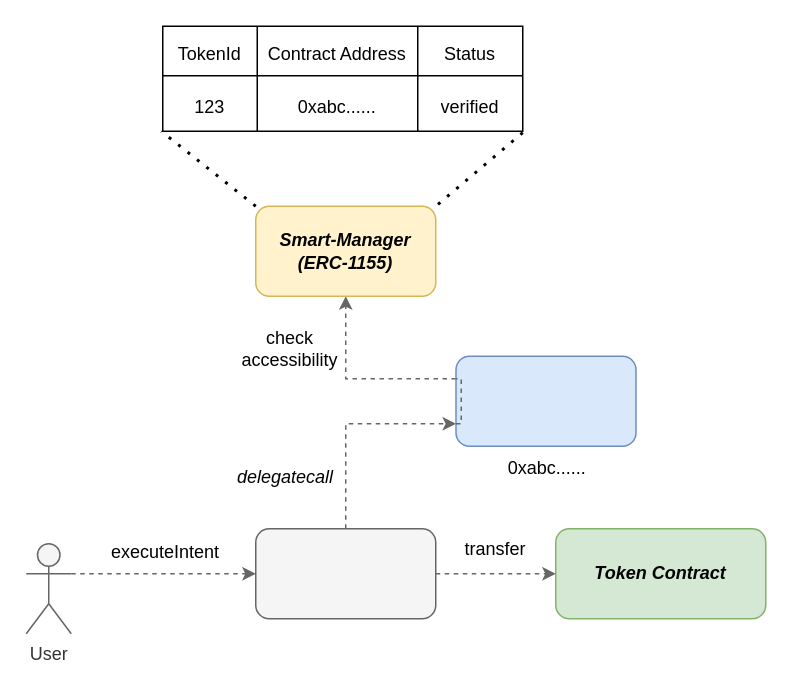
Some shapes in this 792 by 692 pixel diagram are drawn without their labels. Here are the shapes that lost their labels. From the top down, the centre of each, then its label:
At (x=545, y=400): "Smart-NFT (Token Transfer)".
At (x=345, y=573): "Intent-Proxy".
